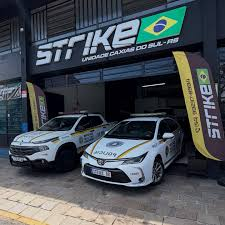car: (79, 110, 188, 192), (9, 113, 105, 171)
car_plate: (89, 165, 112, 179), (11, 155, 25, 163)
